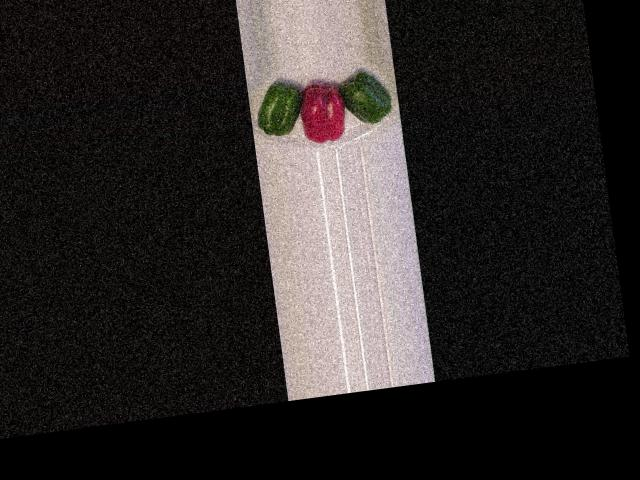bell_pepper: (337, 63, 397, 133)
